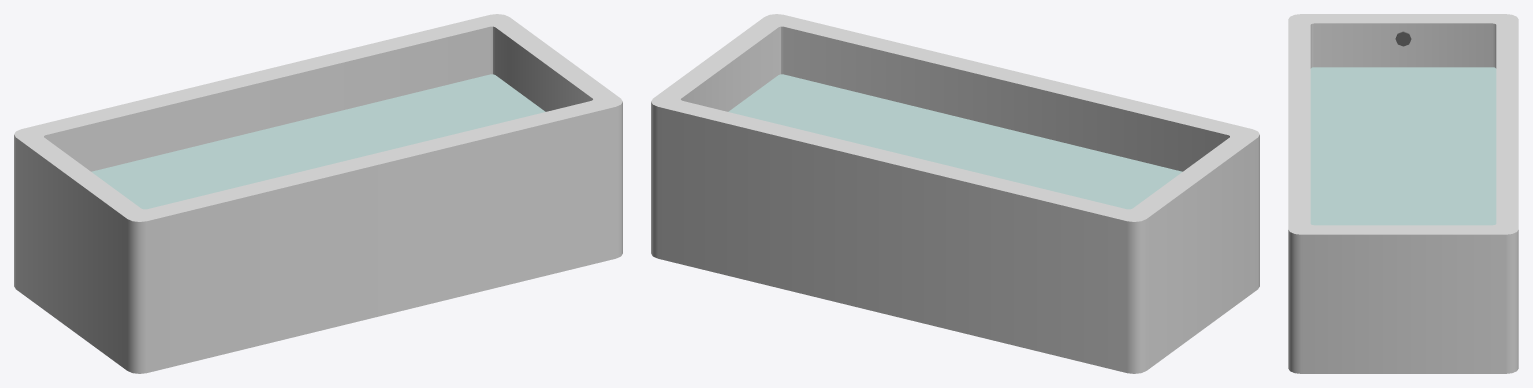
Rendered from Bathroom_04.fbx.
3 renders of one model, left to right at view 1: azimuth 30°, elevation 25°; view 2: azimuth 150°, elevation 25°; view 3: azimuth 270°, elevation 25°, orthographic. The views are drawn at different scales.
Parts seen in each view (by area): view 1: Bathroom_04; view 2: Bathroom_04; view 3: Bathroom_04.
Boxes of the visible parts, x1,y1,x2,y2 form: Bathroom_04: (14,14,622,373); Bathroom_04: (651,14,1259,373); Bathroom_04: (1288,14,1518,373).
Size of the model in its own units: 170 by 50 by 75.
